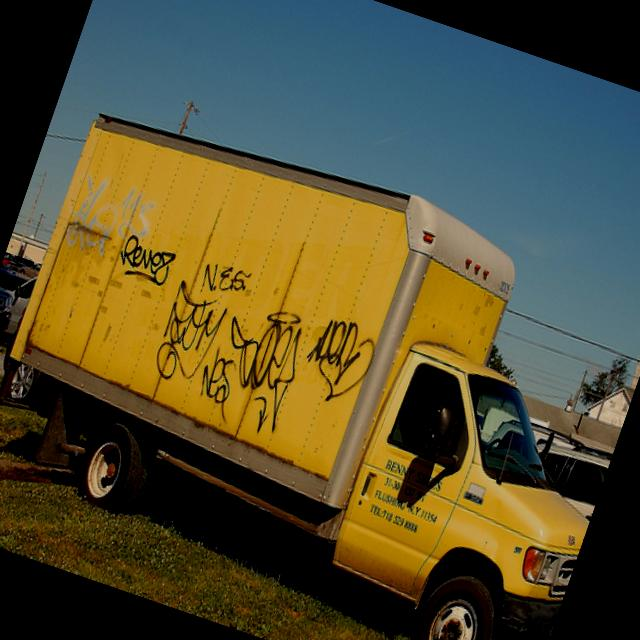Vehicle: (0, 89, 640, 640), (487, 424, 614, 606), (488, 430, 612, 602), (0, 269, 39, 338), (0, 274, 19, 351)
